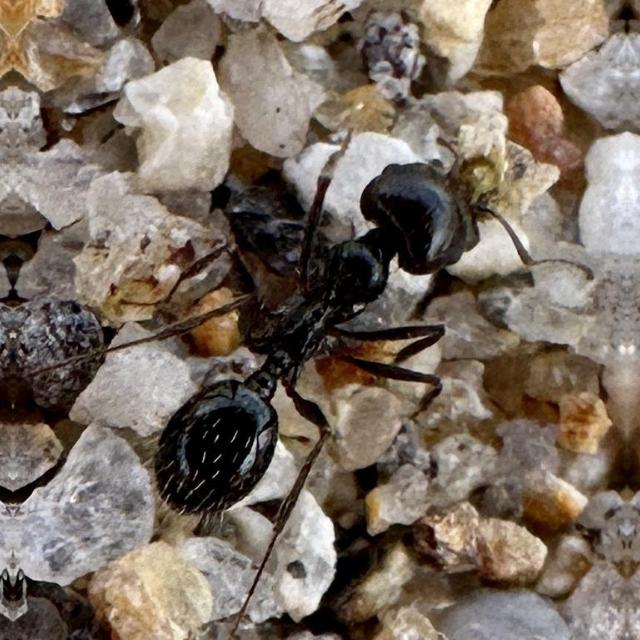Messor: (144, 147, 480, 536)
